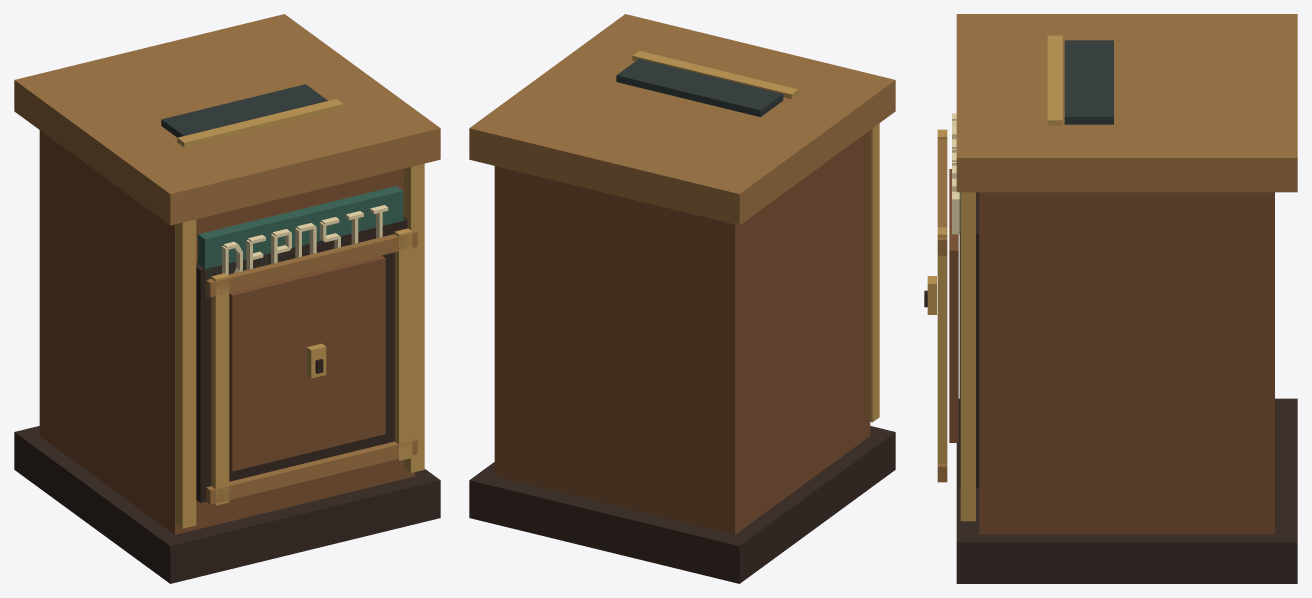
File: deposit-box-v1.glb
The picture shows the model from 3 angles, left to right: view 1: azimuth 30°, elevation 25°; view 2: azimuth 150°, elevation 25°; view 3: azimuth 270°, elevation 25°; orthographic projection. The views are drawn at different scales.
Parts seen in each view (by area): view 1: deposit-box; view 2: deposit-box; view 3: deposit-box.
Boxes of the visible parts, x1,y1,x2,y2 form: deposit-box: (14,14,440,583); deposit-box: (469,14,895,583); deposit-box: (924,14,1297,583).
Size of the model in its own units: 0.9 by 1.26 by 0.985.
